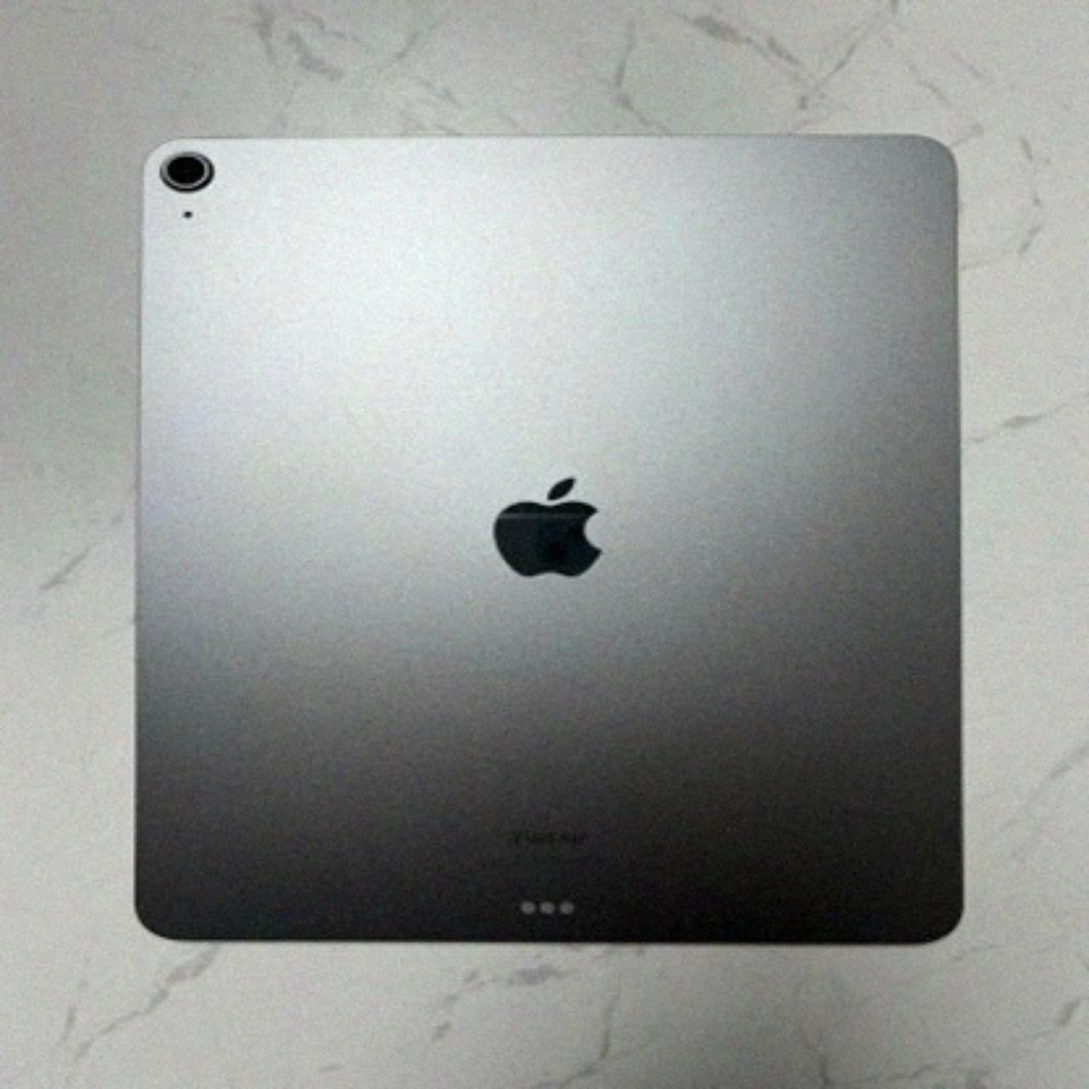Tablet_PC: (120, 123, 974, 963)
